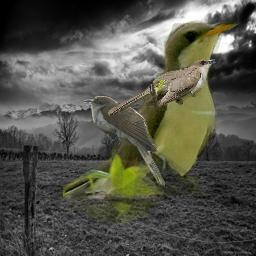Cuckoo: (63, 16, 240, 225), (84, 96, 165, 188), (107, 58, 216, 116)
